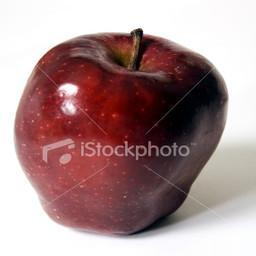apple: (13, 28, 229, 238)
